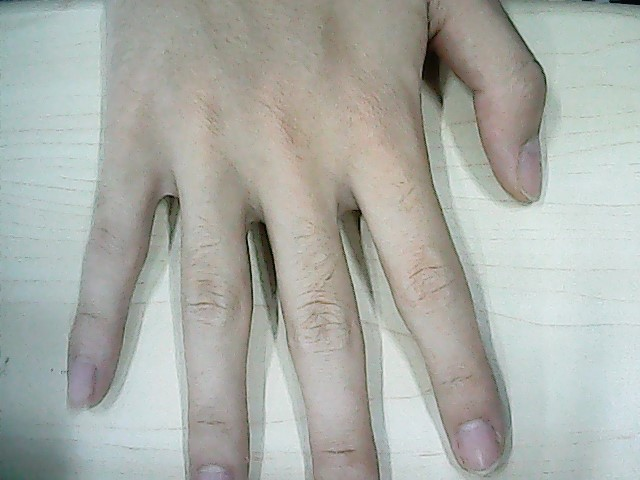nail: (454, 415, 505, 475), (518, 131, 545, 205), (61, 357, 100, 406)
